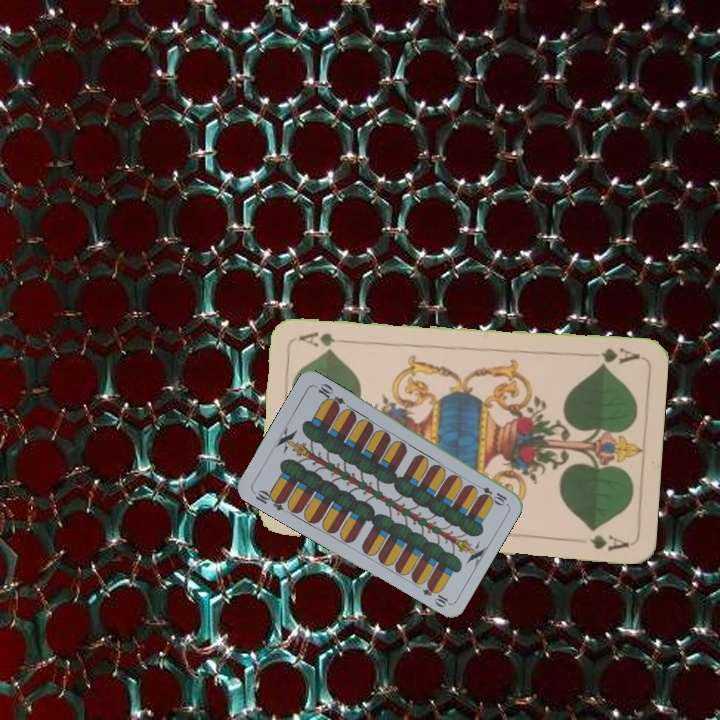E10: (249, 486, 288, 513), (471, 480, 509, 507)
GA: (596, 343, 643, 369)
